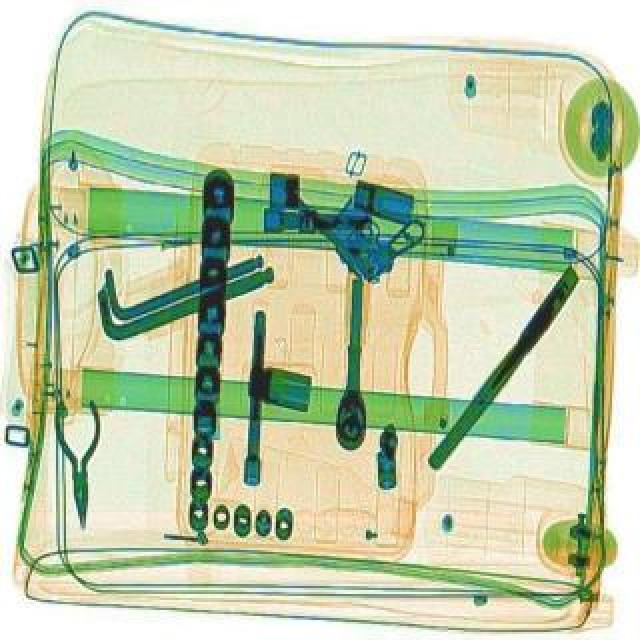gun: (282, 128, 434, 292)
wrench: (52, 396, 108, 528)
